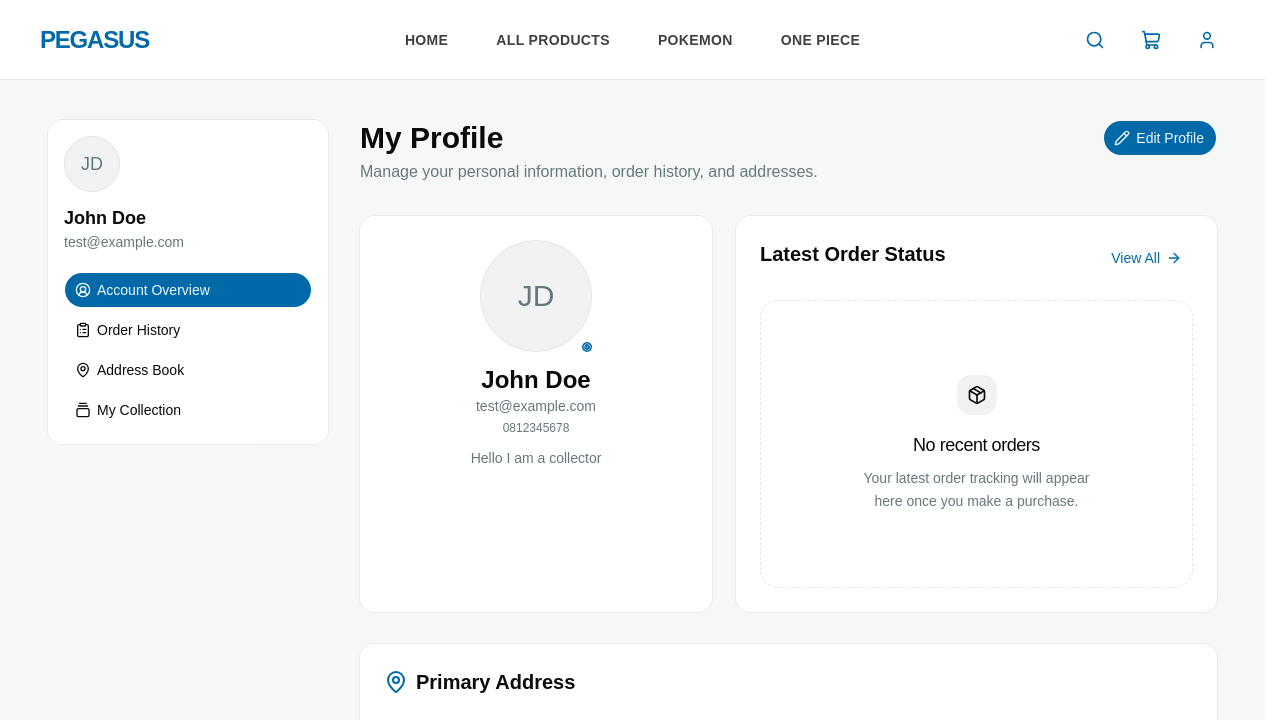
it: Account & Profile Flow › allows user to view and open edit profile dialog
Expected: the text "John Doe" is shown, [64,208,146,228]
# Click edit profile (adjust selector based on actual button text or aria-label)
Click the button "Edit Profile": click(1160, 138) [1103,120,1217,156]
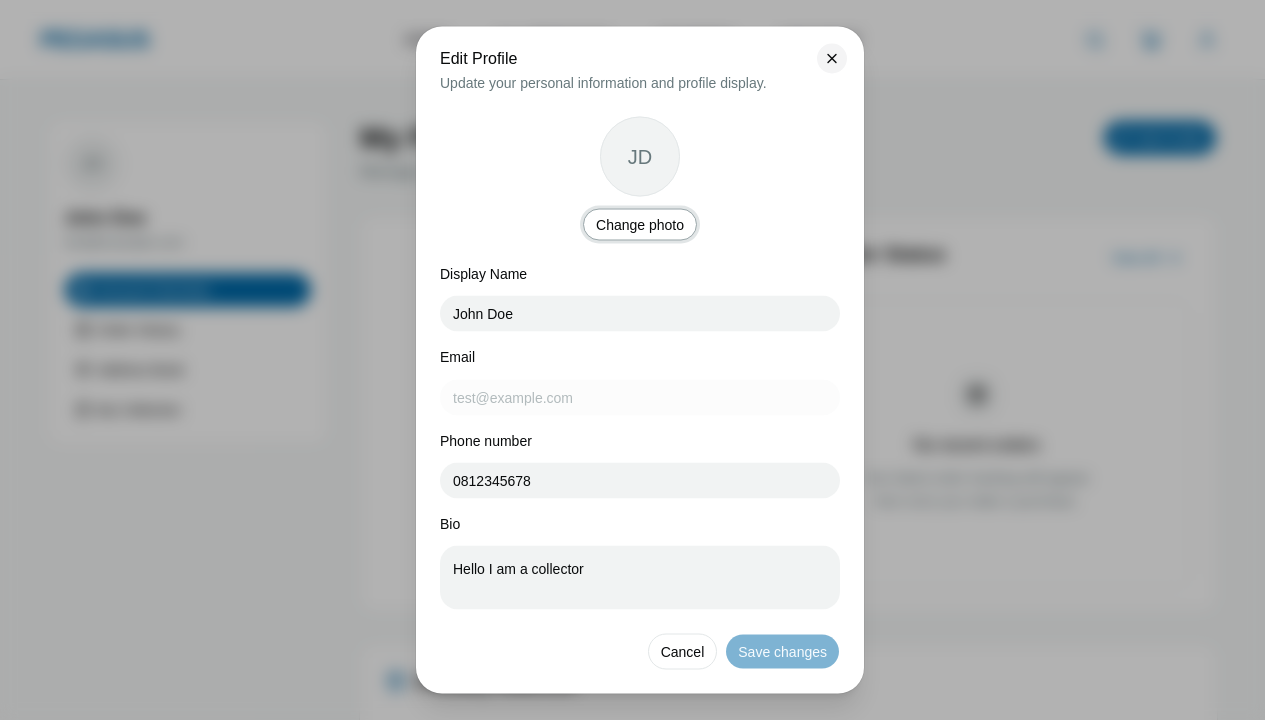
Now the dialog is shown, box [416,27,864,694]
Now the field named "displayName" holds "John Doe", box [440,296,840,332]
Now the field with id "email" holds "test@example.com", box [440,379,840,415]
